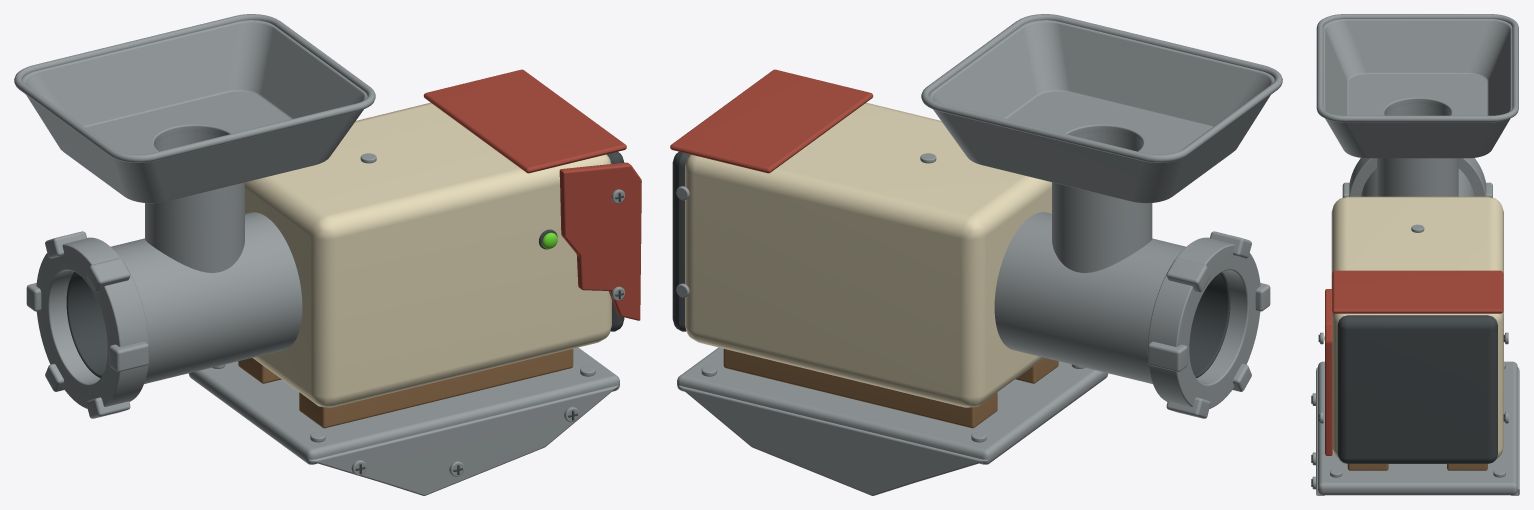
Rendered from ScrapFeeder(Cannon).fbx.
The picture shows the model from 3 angles, left to right: view 1: azimuth 30°, elevation 25°; view 2: azimuth 150°, elevation 25°; view 3: azimuth 270°, elevation 25°; orthographic projection. The views are drawn at different scales.
Parts seen in each view (by area): view 1: Cream main housing, Open tapered scrap hopper, Main wide barrel, Shoulder mount top plate, Angled shoulder bracket, Red top armor patch, Muzzle flange, Irregular red rear side plate, Upright feed neck, Hopper rolled upper lip, Wood mounting spacer, Muzzle inner dark sleeve (+2 smaller); view 2: Cream main housing, Open tapered scrap hopper, Main wide barrel, Shoulder mount top plate, Angled shoulder bracket.001, Red top armor patch, Muzzle flange, Upright feed neck, Hopper rolled upper lip, Wood mounting spacer.001, Muzzle inner dark sleeve, Rear dark end cap (+2 smaller); view 3: Rear dark end cap, Open tapered scrap hopper, Cream main housing, Shoulder mount top plate, Red top armor patch, Upright feed neck, Hopper rolled upper lip, Muzzle flange, Irregular red rear side plate, Main wide barrel, Angled shoulder bracket.001, Wood mounting spacer (+2 smaller).
Part boxes in pixels (x1=…): Cream main housing: x1=245, y1=102, x2=611, y2=407; Open tapered scrap hopper: x1=22, y1=20, x2=367, y2=203; Main wide barrel: x1=111, y1=212, x2=302, y2=383; Shoulder mount top plate: x1=188, y1=347, x2=619, y2=464; Angled shoulder bracket: x1=309, y1=385, x2=617, y2=495; Red top armor patch: x1=423, y1=69, x2=626, y2=173; Muzzle flange: x1=36, y1=237, x2=149, y2=408; Irregular red rear side plate: x1=559, y1=162, x2=641, y2=320; Upright feed neck: x1=145, y1=129, x2=244, y2=272; Hopper rolled upper lip: x1=14, y1=14, x2=375, y2=162; Wood mounting spacer: x1=299, y1=349, x2=573, y2=428; Muzzle inner dark sleeve: x1=66, y1=272, x2=107, y2=378; Cream main housing: x1=685, y1=102, x2=1051, y2=407; Open tapered scrap hopper: x1=929, y1=20, x2=1274, y2=203; Main wide barrel: x1=994, y1=212, x2=1185, y2=383; Shoulder mount top plate: x1=677, y1=347, x2=1108, y2=464; Angled shoulder bracket.001: x1=679, y1=385, x2=987, y2=495; Red top armor patch: x1=670, y1=69, x2=873, y2=173; Muzzle flange: x1=1147, y1=237, x2=1260, y2=408; Upright feed neck: x1=1052, y1=129, x2=1152, y2=272; Hopper rolled upper lip: x1=921, y1=14, x2=1282, y2=162; Wood mounting spacer.001: x1=723, y1=349, x2=997, y2=428; Muzzle inner dark sleeve: x1=1189, y1=272, x2=1230, y2=378; Rear dark end cap: x1=672, y1=151, x2=689, y2=331; Rear dark end cap: x1=1337, y1=315, x2=1497, y2=463; Open tapered scrap hopper: x1=1323, y1=19, x2=1512, y2=158; Cream main housing: x1=1331, y1=196, x2=1503, y2=459; Shoulder mount top plate: x1=1318, y1=361, x2=1517, y2=495; Red top armor patch: x1=1332, y1=270, x2=1503, y2=313; Upright feed neck: x1=1377, y1=101, x2=1458, y2=196; Hopper rolled upper lip: x1=1316, y1=14, x2=1518, y2=122; Muzzle flange: x1=1349, y1=158, x2=1486, y2=196; Irregular red rear side plate: x1=1325, y1=289, x2=1332, y2=455; Main wide barrel: x1=1361, y1=168, x2=1474, y2=196; Angled shoulder bracket.001: x1=1511, y1=367, x2=1519, y2=495; Wood mounting spacer: x1=1347, y1=464, x2=1388, y2=470.
Size of the model in its own units: 337 by 251 by 143.
